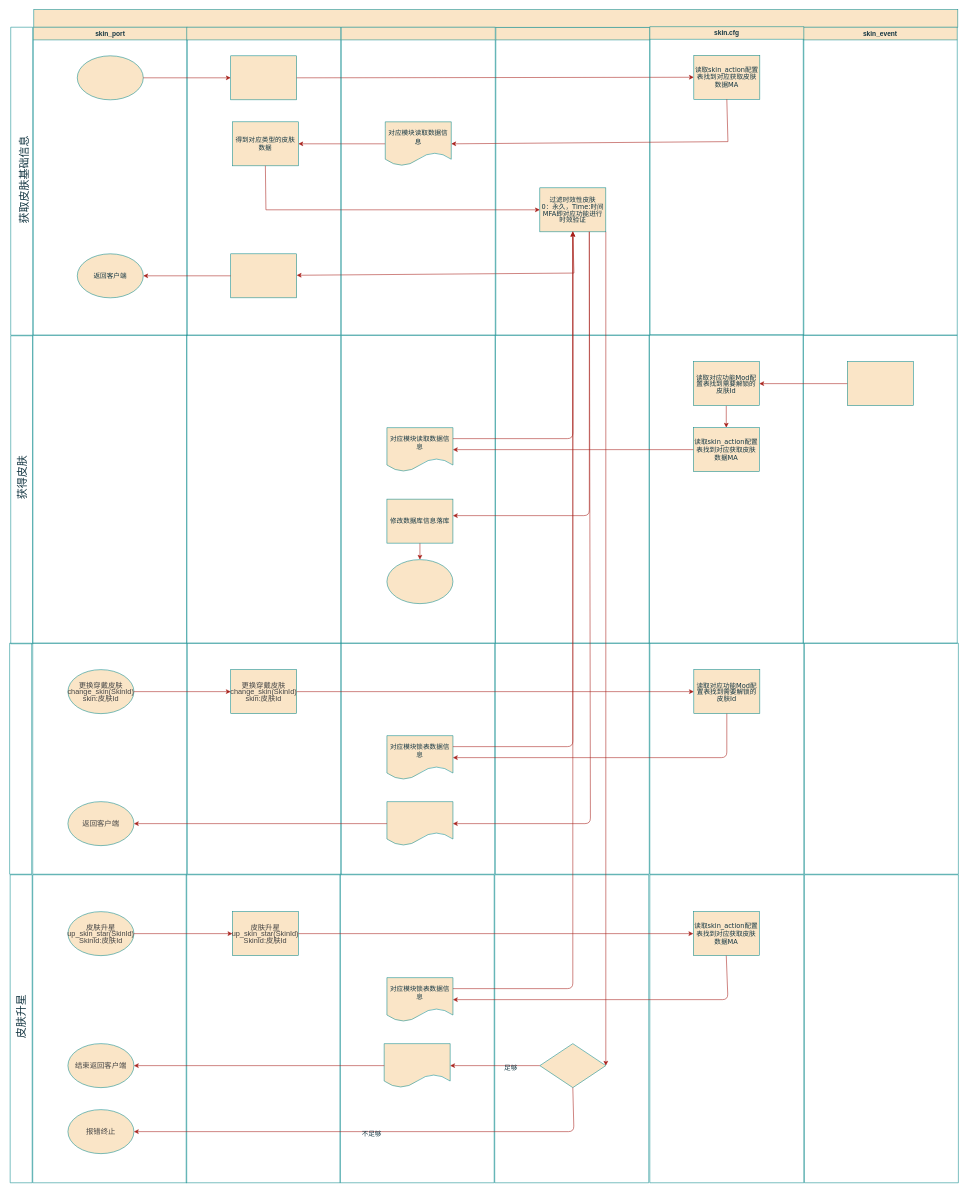
This 968x1192 diagram has some shape labels left out. Here are the shapes that lost their labels. From the top down, the box of each, then its label:
(33, 9, 958, 27): 皮肤框架流程图
(77, 55, 143, 100): 获取皮肤基础 get_skin_info
(230, 55, 297, 100): 获取皮肤基础信息 get_skin_info
(186, 27, 341, 335): skin_db
(341, 27, 495, 335): skin_Mod(框架实现skin_common)
(495, 27, 650, 335): skin_lib
(230, 253, 297, 298): pb格式化
(847, 361, 913, 406): 接入事件获得皮肤
(386, 559, 453, 604): 结束
(9, 643, 32, 874): 更换穿戴皮肤
(386, 801, 453, 846): 实现更换穿戴皮肤l 数据落库
(384, 1043, 450, 1088): 皮肤升星，数据落地
(539, 1043, 606, 1088): 消耗条件判断
